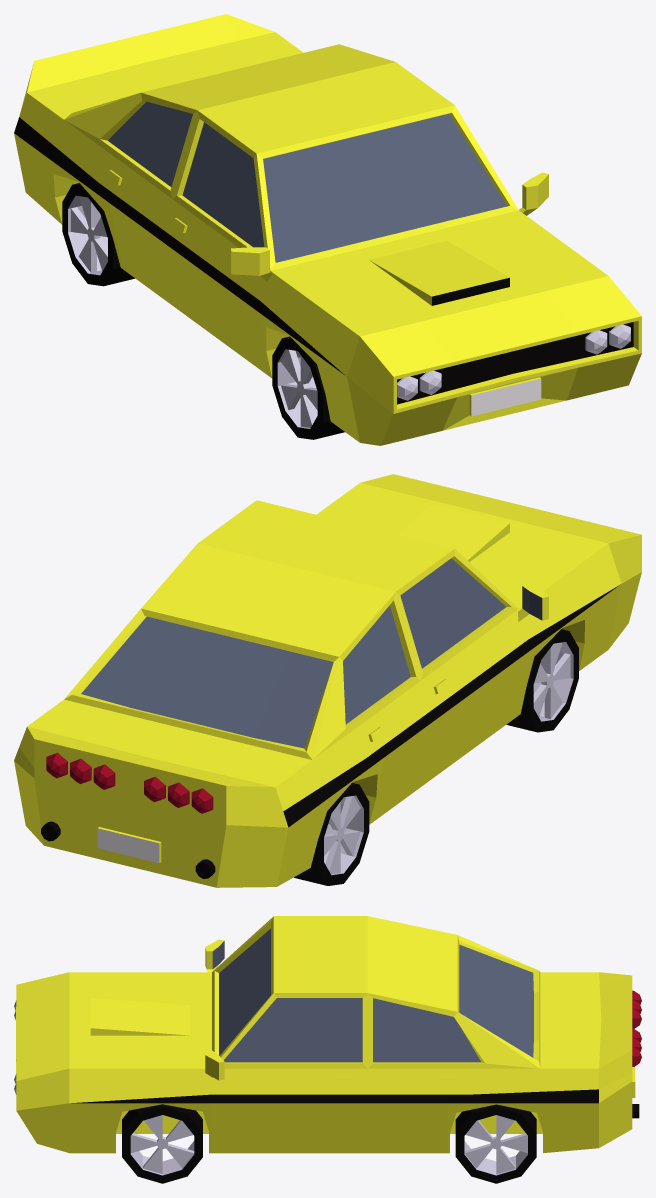
The model's file is Muscle.gltf.
The picture shows the model from 3 angles, top to bottom: view 1: azimuth 30°, elevation 25°; view 2: azimuth 150°, elevation 25°; view 3: azimuth 270°, elevation 25°; orthographic projection. The views are drawn at different scales.
Parts seen in each view (by area): view 1: Muscle, Muscle_wheel_front_right, Muscle_wheel_rear_right; view 2: Muscle, Muscle_wheel_front_right, Muscle_wheel_rear_right; view 3: Muscle, Muscle_wheel_front_left, Muscle_wheel_rear_left.
Boxes of the visible parts, x1=… form: Muscle: x1=14, y1=14, x2=641, y2=445; Muscle_wheel_front_right: x1=272, y1=336, x2=344, y2=439; Muscle_wheel_rear_right: x1=62, y1=183, x2=134, y2=286; Muscle: x1=14, y1=474, x2=641, y2=887; Muscle_wheel_front_right: x1=506, y1=629, x2=578, y2=732; Muscle_wheel_rear_right: x1=294, y1=783, x2=369, y2=885; Muscle: x1=14, y1=916, x2=641, y2=1153; Muscle_wheel_front_left: x1=122, y1=1104, x2=202, y2=1183; Muscle_wheel_rear_left: x1=455, y1=1104, x2=536, y2=1183.
Size of the model in its own units: 281 by 191 by 606.
